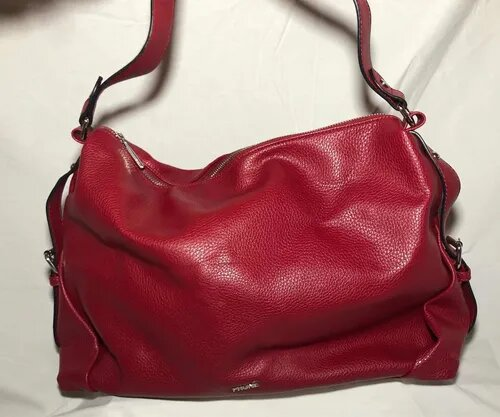cartera: (41, 2, 483, 407)
cuero: (40, 110, 479, 405)
